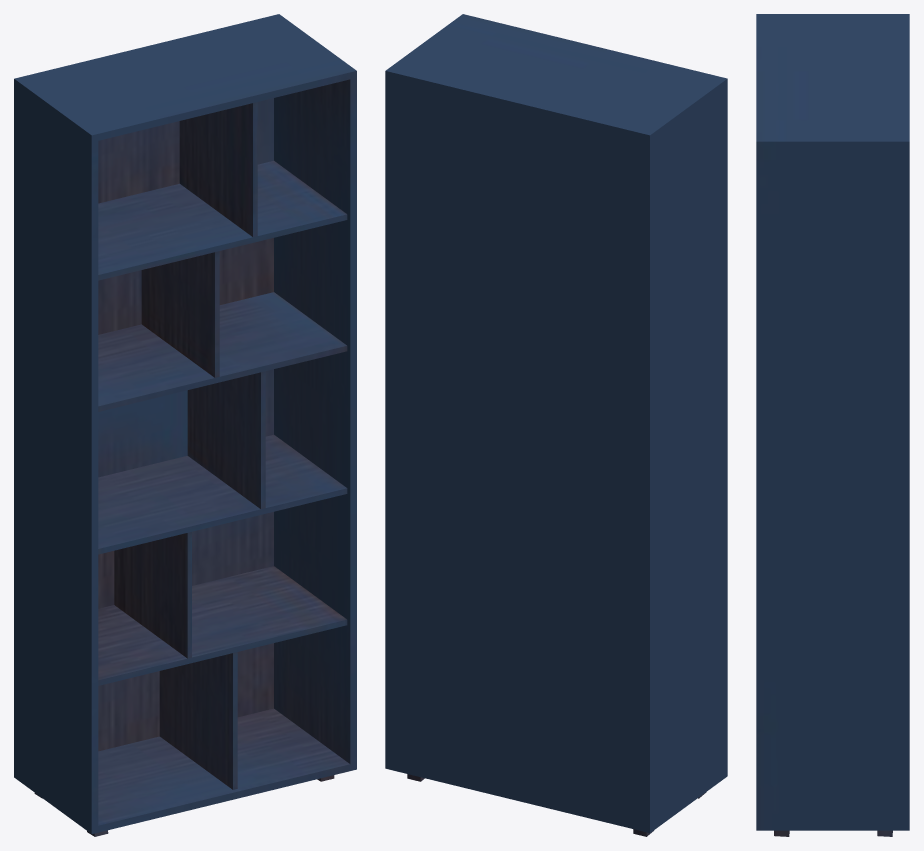
Rendered from Book SHELF OFFICE RACK.fbx.
3 views of the same model, side by side, from view 1: azimuth 30°, elevation 25°; view 2: azimuth 150°, elevation 25°; view 3: azimuth 270°, elevation 25° (orthographic).
Parts seen in each view (by area): view 1: Book SHELF OFFICE RACK; view 2: Book SHELF OFFICE RACK; view 3: Book SHELF OFFICE RACK.
Part boxes in pixels (x1,y1,x2,y2): Book SHELF OFFICE RACK: (14,14,356,836); Book SHELF OFFICE RACK: (385,14,727,836); Book SHELF OFFICE RACK: (756,14,909,836).
Size of the model in its own units: 19.85 by 10.07 by 50.94.
Materials: 1 (1 with a texture image).
